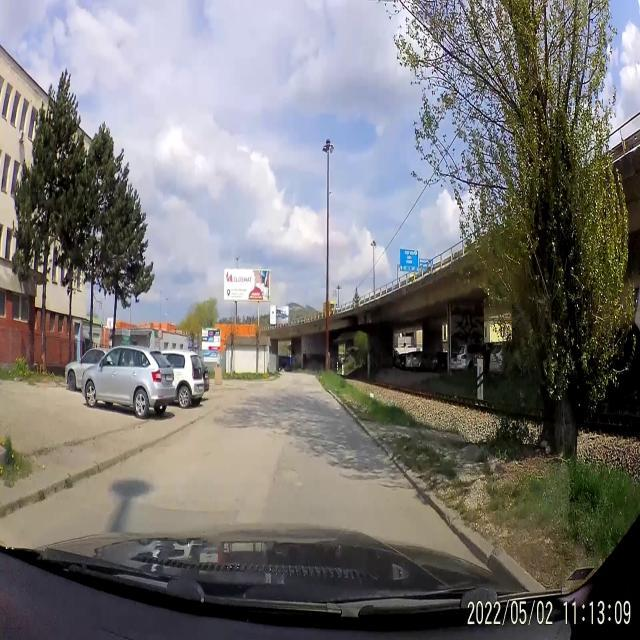Pothole: (278, 462, 302, 494)
